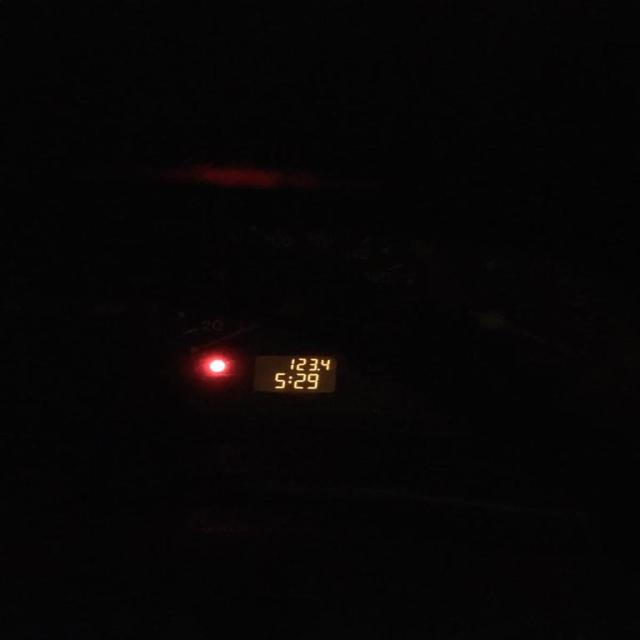odometer: (250, 353, 339, 393)
